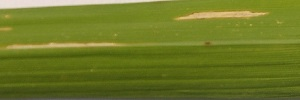RiceBacterialBlight: (171, 8, 275, 26)
